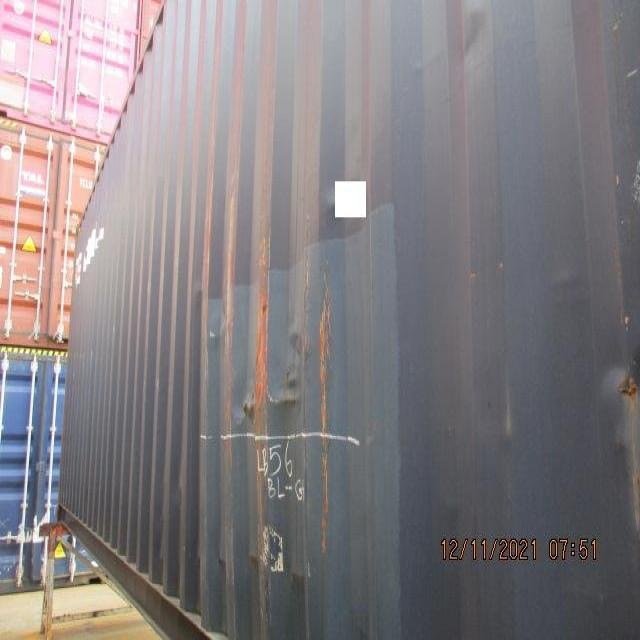Dent: (183, 290, 378, 510)
